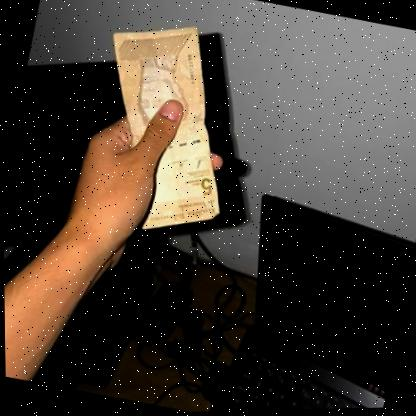vef_front: (72, 9, 254, 246)
